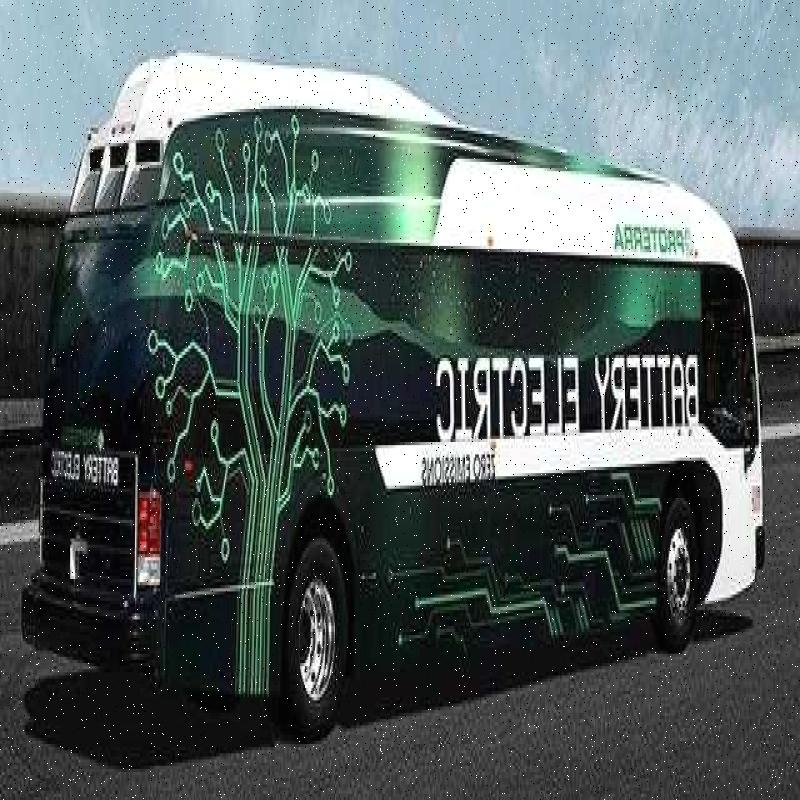bus: (30, 92, 776, 743)
